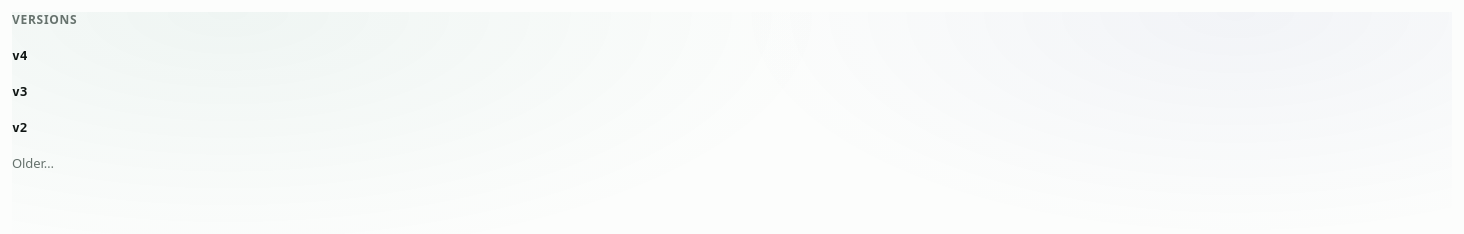
Scenario: a fourth version earns the disclosure, which collapses again
The width and height of the screenshot is (1464, 234).
Click the button "Older…" at (33, 164), box [12,148,54,180]
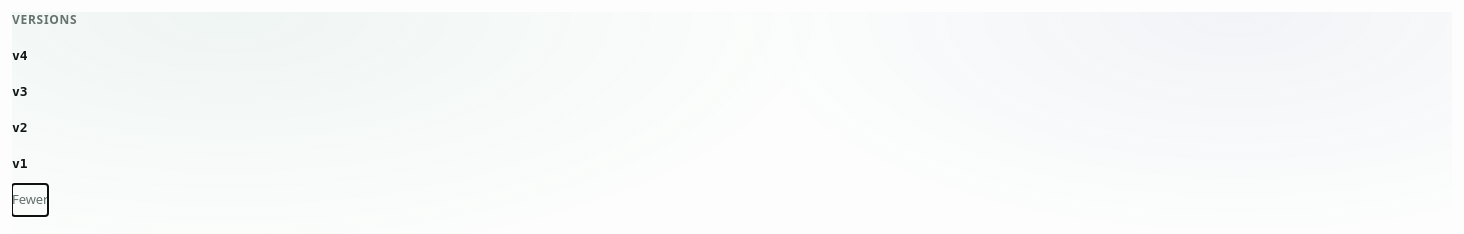
Expected: the number of buttons "v4" is 4, [12,40,1452,72]; [12,76,1452,108]; [12,112,1452,144]; [12,148,1452,180]
Click the button "Fewer" at (30, 200), box [12,184,48,216]
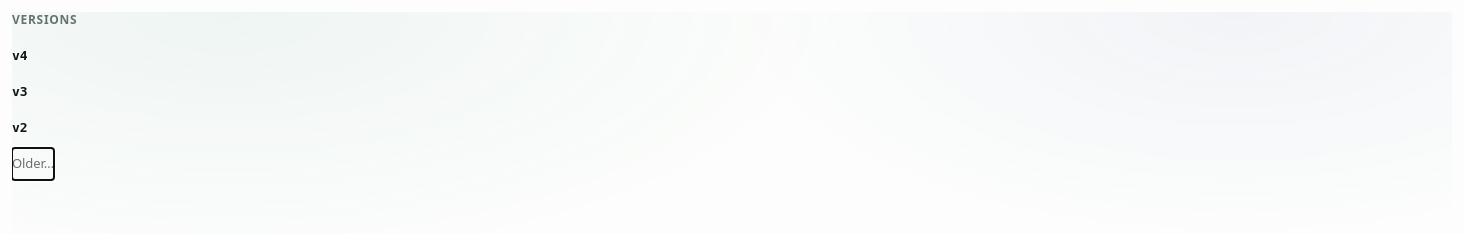
Expected: the number of buttons "v4" is 3, [12,40,1452,72]; [12,76,1452,108]; [12,112,1452,144]
Expected: the button "Older…" is collapsed, [12,148,54,180]
